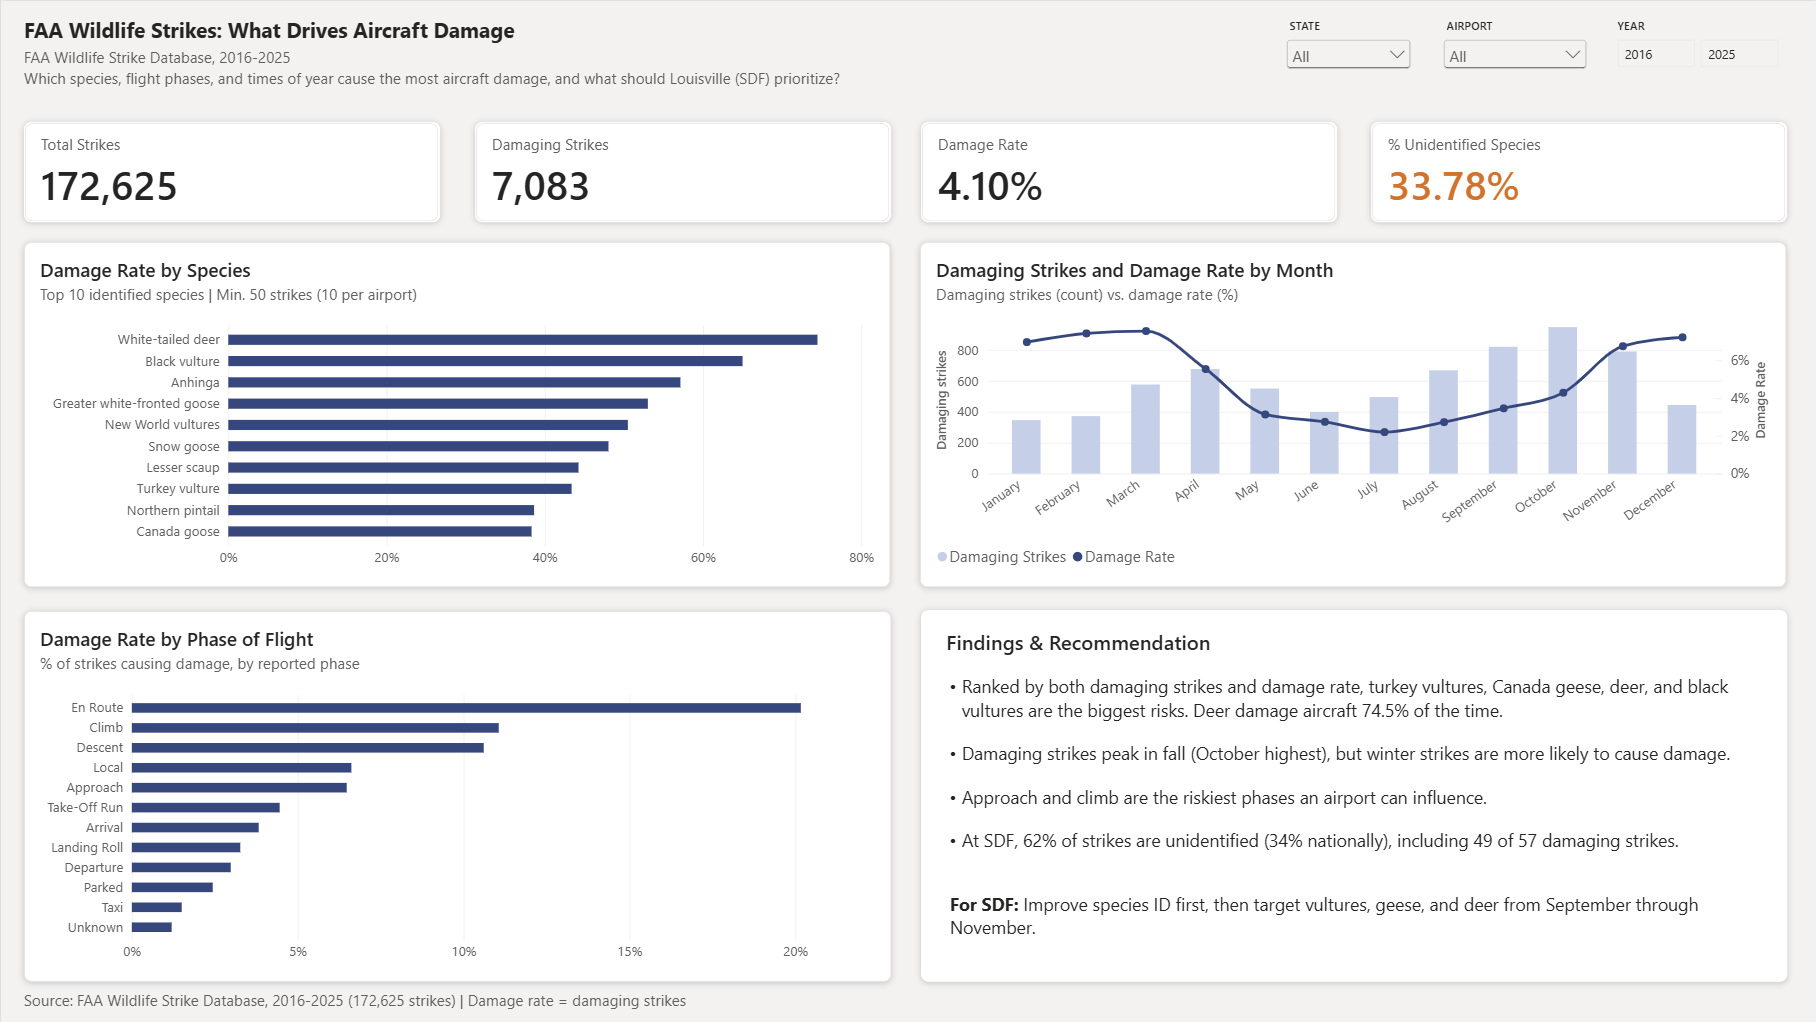

The page's visual inventory and layout, read from the dashboard file:
{"tool":"powerbi","page":{"name":"Page 1","canvas":[1920,1080],"ordinal":0},"visuals":[{"type":"cardVisual","fields":{"Data":["strikes_clean.Total Strikes Label"]},"box":[24.4,127.7,439.8,106.3],"z":0},{"type":"cardVisual","fields":{"Data":["strikes_clean.Damaging Strikes Label"]},"box":[501.2,127.7,439.8,106.3],"z":1000},{"type":"cardVisual","fields":{"Data":["strikes_clean.Damage Rate"]},"box":[972.2,127.7,439.8,106.3],"z":2000},{"type":"clusteredBarChart","title":"Damage Rate by Species","fields":{"Category":["strikes_clean.SPECIES"],"Y":["strikes_clean.Damage Rate (Min Volume)"]},"box":[24.4,255.1,916.2,364.9],"z":3000},{"type":"lineClusteredColumnComboChart","title":"Damaging Strikes and Damage Rate by Month","fields":{"Category":["strikes_clean.Month Name"],"Y":["strikes_clean.Damaging Strikes"],"Y2":["strikes_clean.Damage Rate"]},"box":[971.6,255.1,916.2,364.9],"z":4000},{"type":"clusteredBarChart","title":"Damage Rate by Phase of Flight","fields":{"Category":["strikes_clean.PHASE_OF_FLIGHT"],"Y":["strikes_clean.Damage Rate"]},"box":[24.3,644.9,916.7,392.2],"z":5000},{"type":"slicer","fields":{"Values":["strikes_clean.STATE"]},"box":[1354.3,17.7,140.9,69.9],"z":6000},{"type":"slicer","fields":{"Values":["strikes_clean.AIRPORT"]},"box":[1520.7,17.7,160.8,72.1],"z":7000},{"type":"slicer","fields":{"Values":["strikes_clean.Year"]},"box":[1701.5,17.7,186.3,58.8],"z":8000},{"type":"textbox","box":[24.4,14.4,760,52],"z":9000},{"type":"cardVisual","fields":{"Data":["strikes_clean.% Unidentified"]},"box":[1448,127.7,439.8,106.3],"z":10000},{"type":"textbox","box":[24.4,48.8,759.8,22.2],"z":11000},{"type":"textbox","box":[24.4,71,994.9,42.1],"z":12000},{"type":"textbox","box":[24.3,1045.6,853.2,24.3],"z":13000},{"type":"textbox","box":[972.7,643.9,915.6,393.3],"z":14000}]}

Visuals, with their boxes in screenshot pixels (x1, y1, x2, y2), scaled from the page's 1920x1080 canvas onto the 1816x1022 screenshot:
cardVisual - strikes_clean.Total Strikes Label: <region>23, 121, 439, 221</region>
cardVisual - strikes_clean.Damaging Strikes Label: <region>474, 121, 890, 221</region>
cardVisual - strikes_clean.Damage Rate: <region>920, 121, 1336, 221</region>
"Damage Rate by Species" clusteredBarChart: <region>23, 241, 890, 587</region>
"Damaging Strikes and Damage Rate by Month" lineClusteredColumnComboChart: <region>919, 241, 1786, 587</region>
"Damage Rate by Phase of Flight" clusteredBarChart: <region>23, 610, 890, 981</region>
slicer - strikes_clean.STATE: <region>1281, 17, 1414, 83</region>
slicer - strikes_clean.AIRPORT: <region>1438, 17, 1590, 85</region>
slicer - strikes_clean.Year: <region>1609, 17, 1786, 72</region>
textbox: <region>23, 14, 742, 63</region>
cardVisual - strikes_clean.% Unidentified: <region>1370, 121, 1786, 221</region>
textbox: <region>23, 46, 742, 67</region>
textbox: <region>23, 67, 964, 107</region>
textbox: <region>23, 989, 830, 1012</region>
textbox: <region>920, 609, 1786, 981</region>
